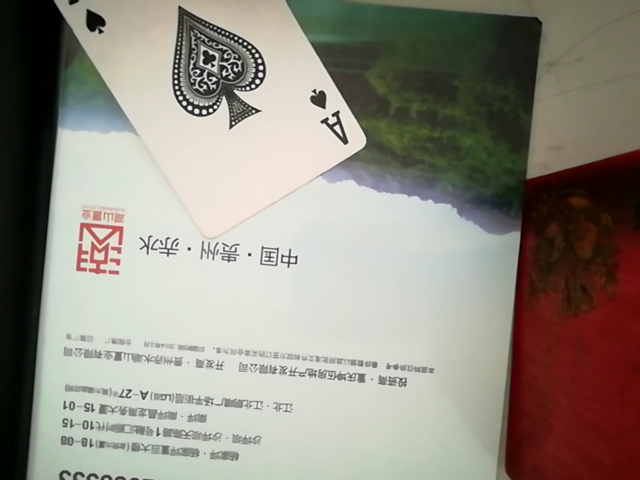ht a: (33, 2, 369, 233)
